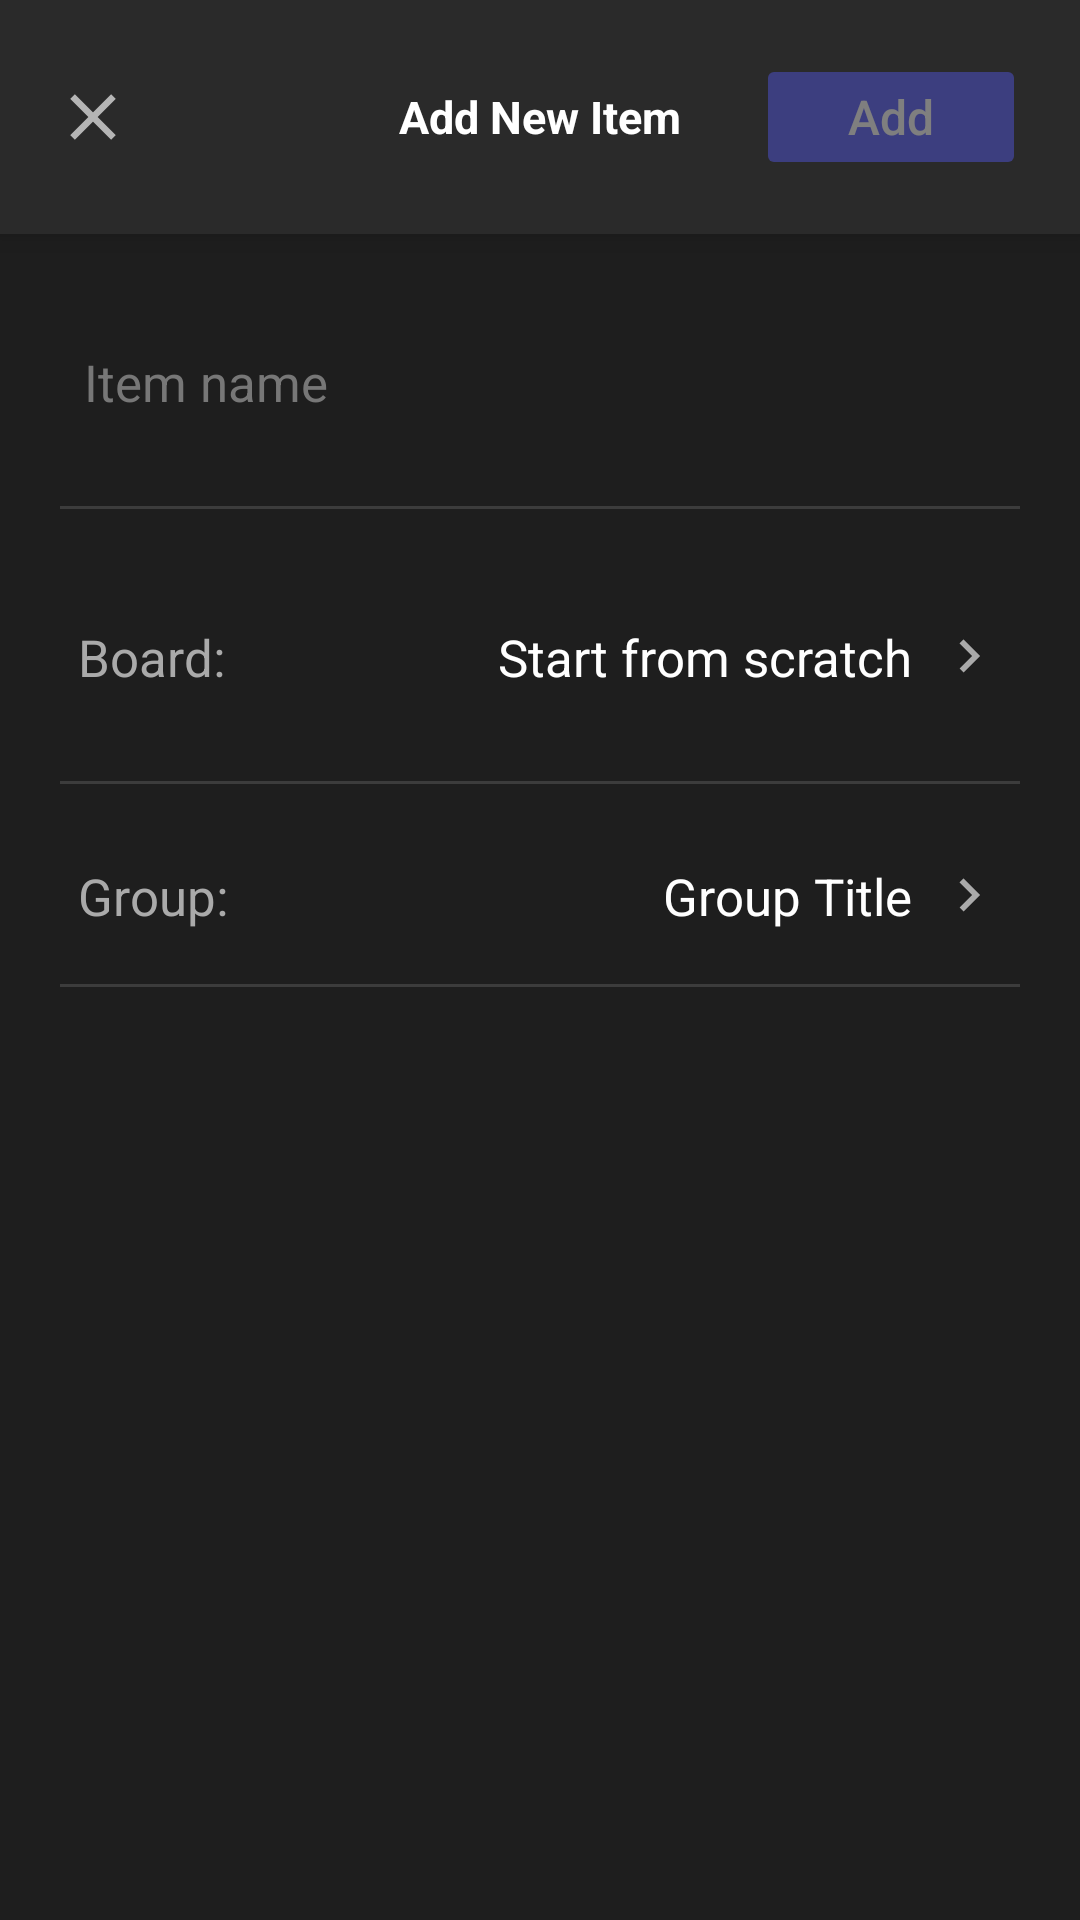

Locate icon controls on the screen. Image size 1080 x 1920, boxes as (x1, y1, x2, y2).
arrow right: (959, 639, 980, 673), (959, 878, 980, 912)
close: (70, 94, 116, 140)
